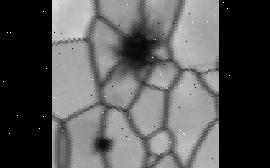good_void: (106, 11, 172, 77), (87, 133, 118, 159)
